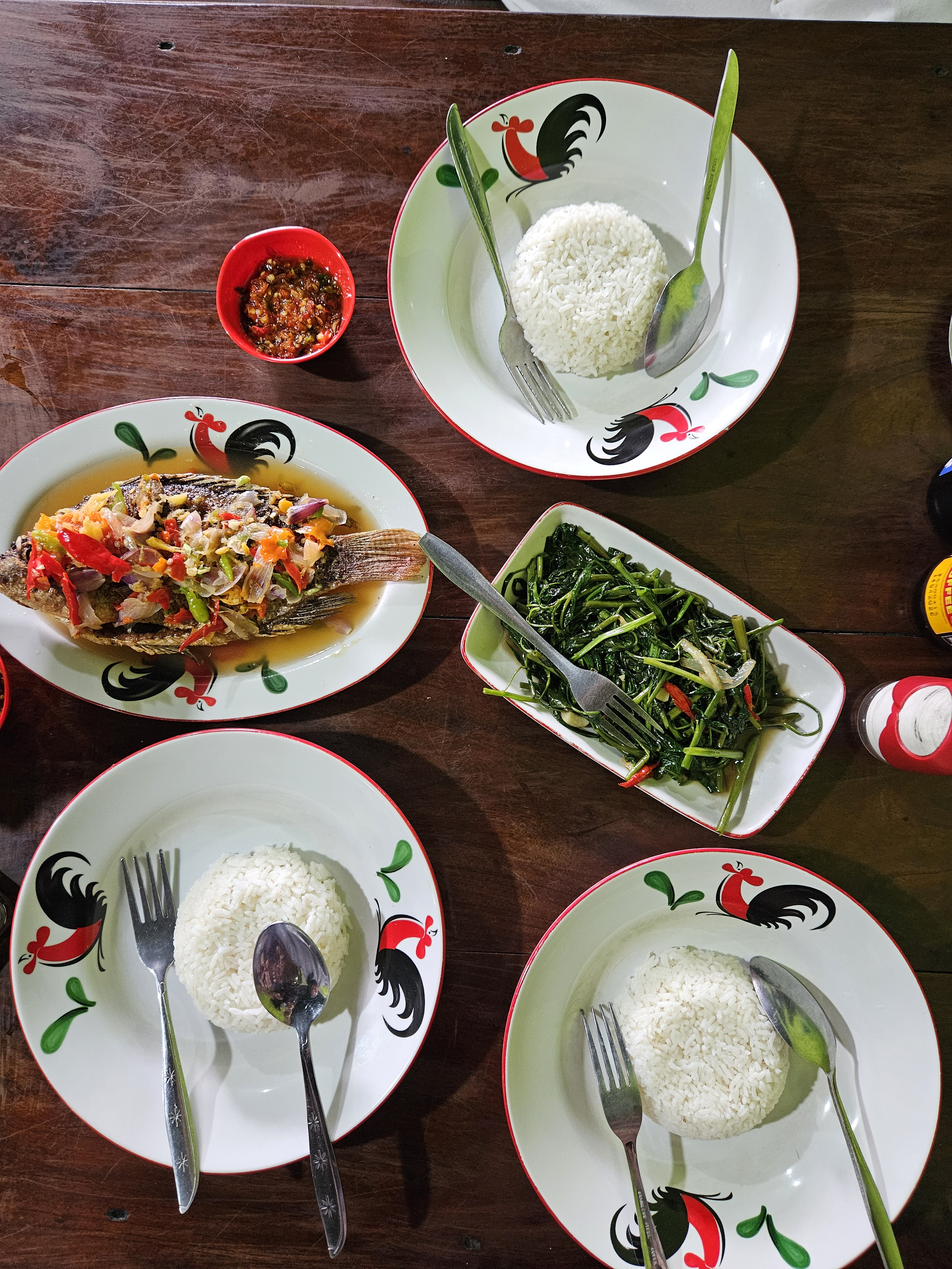makanan_berpati: (512, 211, 670, 373)
